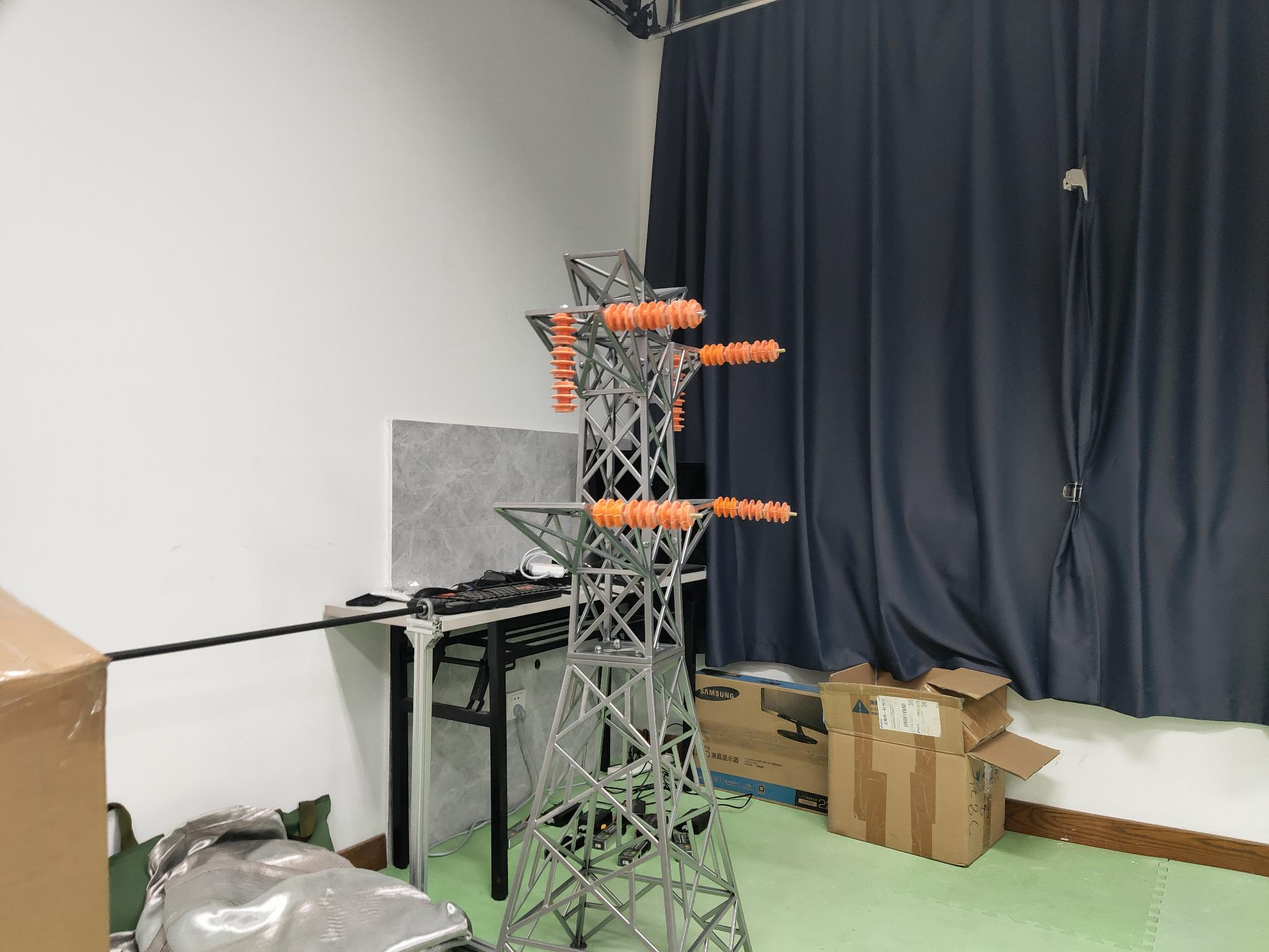tower: (489, 248, 757, 952)
